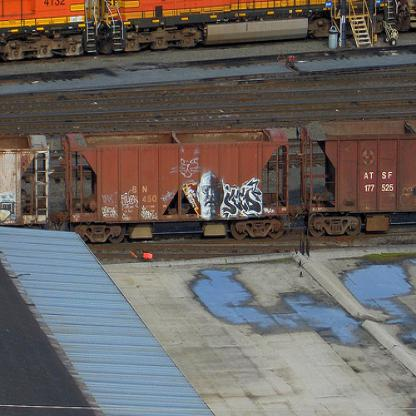train: (0, 119, 415, 242), (0, 0, 415, 62)
